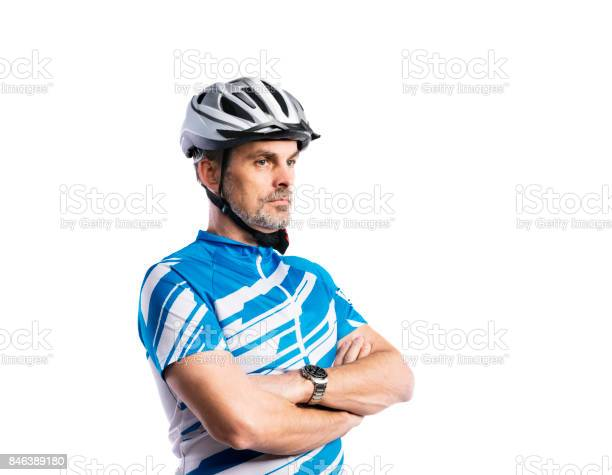helmet: (181, 77, 320, 231)
